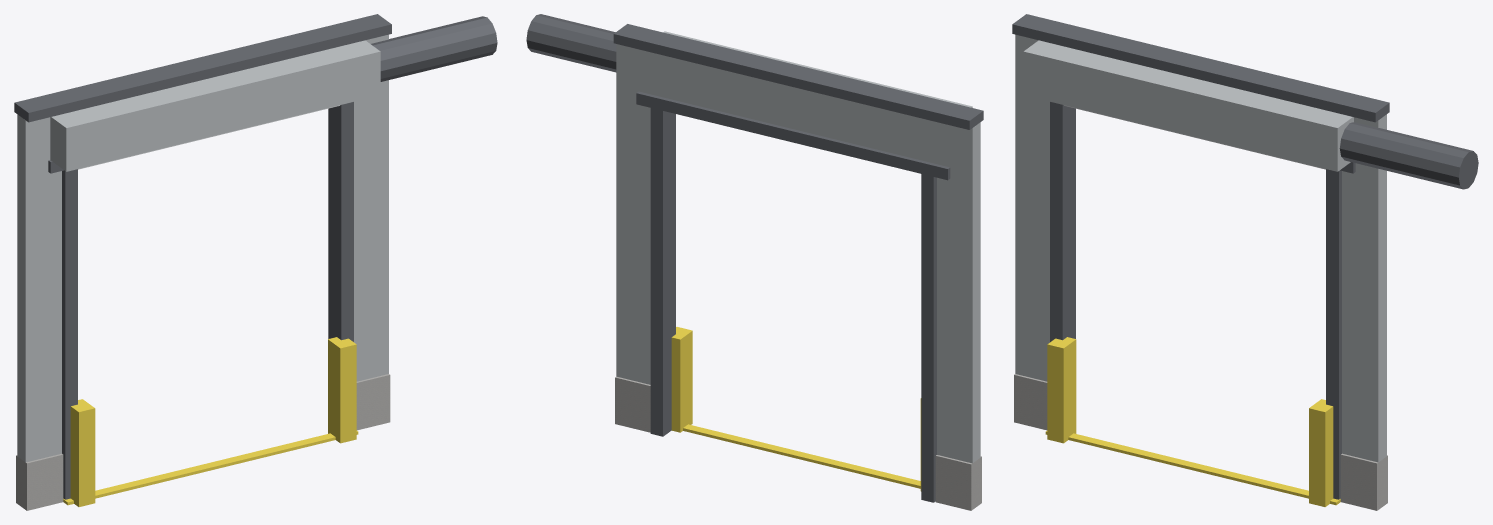
Rendered from roller-shutter-door-module-open.glb.
3 views of the same model, side by side, from view 1: azimuth 30°, elevation 25°; view 2: azimuth 150°, elevation 25°; view 3: azimuth 330°, elevation 25° (orthographic). The views are drawn at different scales.
Parts seen in each view (by area): view 1: parcel-depot-and-sorting-hall-roller-shutter-door-open; view 2: parcel-depot-and-sorting-hall-roller-shutter-door-open; view 3: parcel-depot-and-sorting-hall-roller-shutter-door-open.
Part boxes in pixels (bbox=[...]): parcel-depot-and-sorting-hall-roller-shutter-door-open: bbox=[14, 14, 497, 510]; parcel-depot-and-sorting-hall-roller-shutter-door-open: bbox=[526, 14, 983, 510]; parcel-depot-and-sorting-hall-roller-shutter-door-open: bbox=[1012, 14, 1478, 510].
Bounding box in the file's own units: 5.04 × 4.2 × 0.5248.
5 materials, 1 textured.
